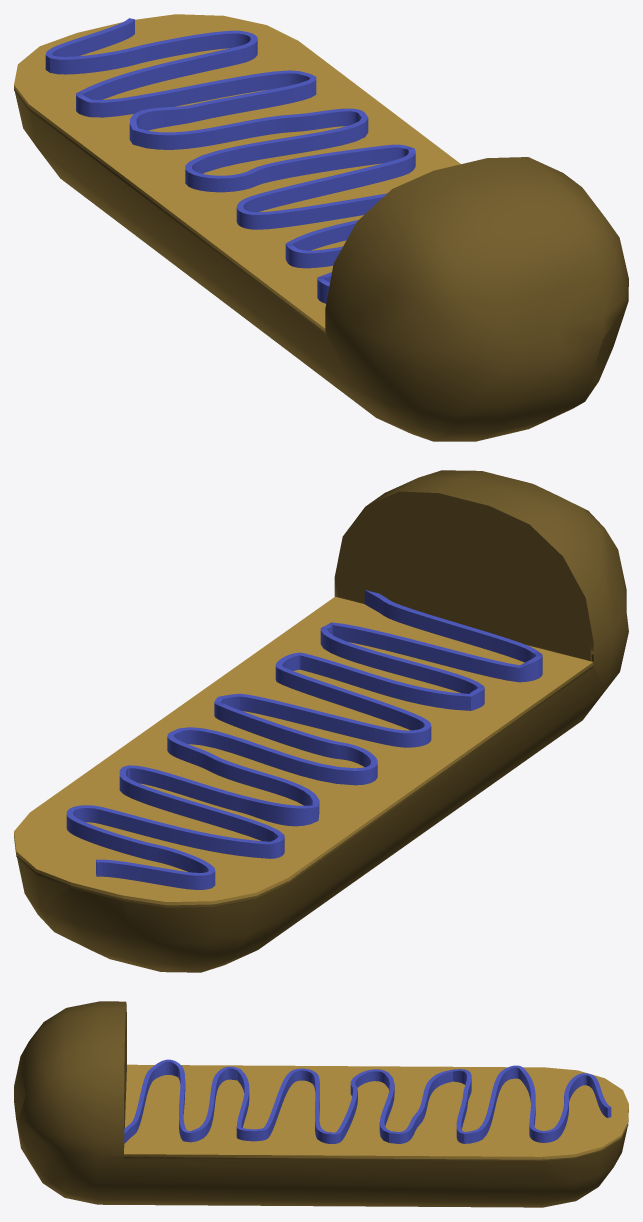
The model's file is Mitocondria.glb.
3 renders of one model, top to bottom at view 1: azimuth 30°, elevation 25°; view 2: azimuth 150°, elevation 25°; view 3: azimuth 270°, elevation 25°, orthographic. The views are drawn at different scales.
Parts seen in each view (by area): view 1: mitocondira; view 2: mitocondira; view 3: mitocondira.
Boxes of the visible parts, box(x1,y1,x2,y2) form: mitocondira: box(14, 14, 628, 441); mitocondira: box(14, 470, 628, 972); mitocondira: box(14, 1001, 628, 1207).
Size of the model in its own units: 0.233 by 0.2 by 0.6557.
